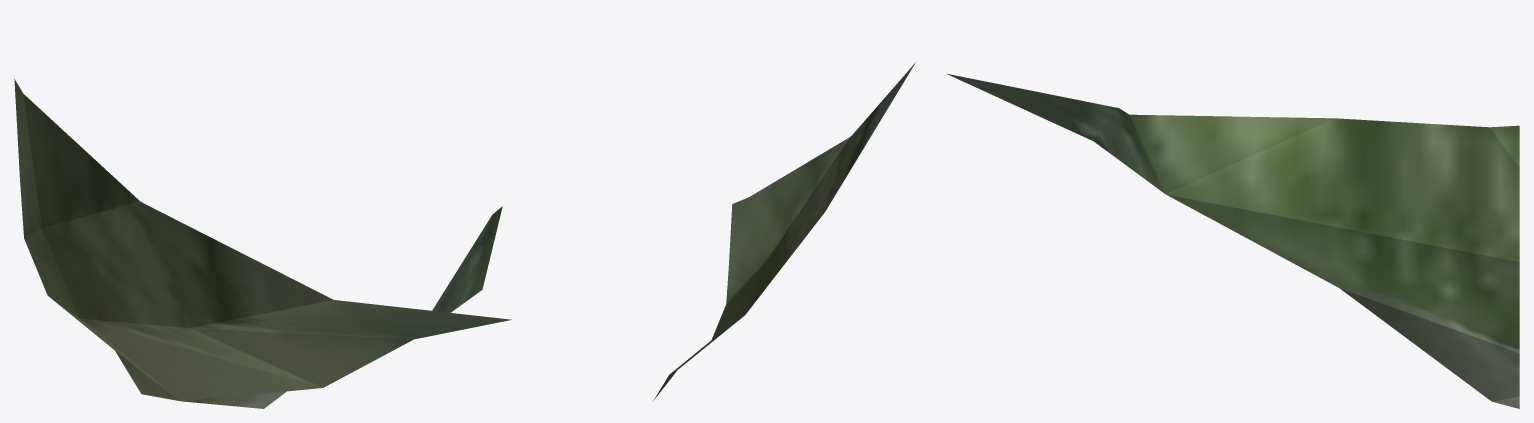
3 renders of one model, left to right at view 1: azimuth 30°, elevation 25°; view 2: azimuth 150°, elevation 25°; view 3: azimuth 270°, elevation 25°, orthographic. The views are drawn at different scales.
Bounding box in the file's own units: 0.2468 × 0.2693 × 0.4738.
1 material, 1 textured.
